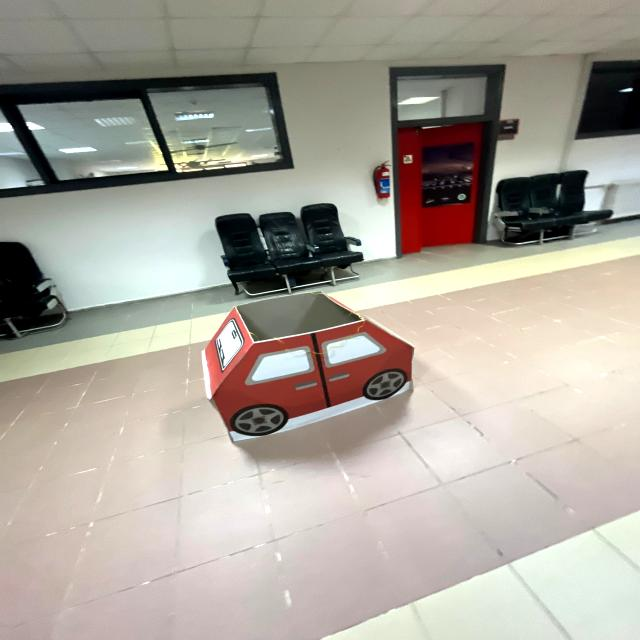red_car: (187, 287, 447, 444)
